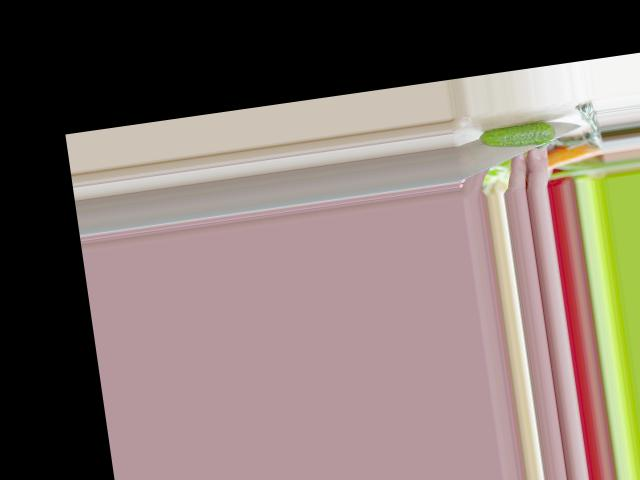cucumber: (479, 118, 557, 152)
